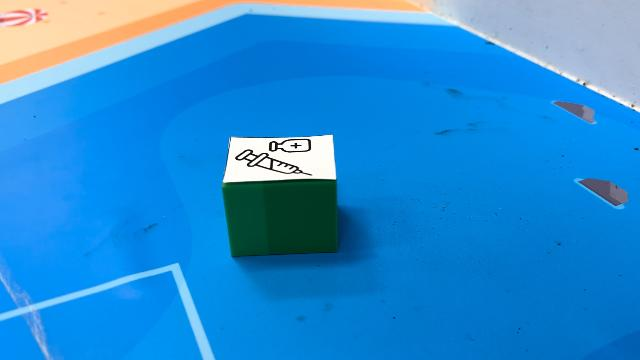syringe: (222, 134, 342, 258)
